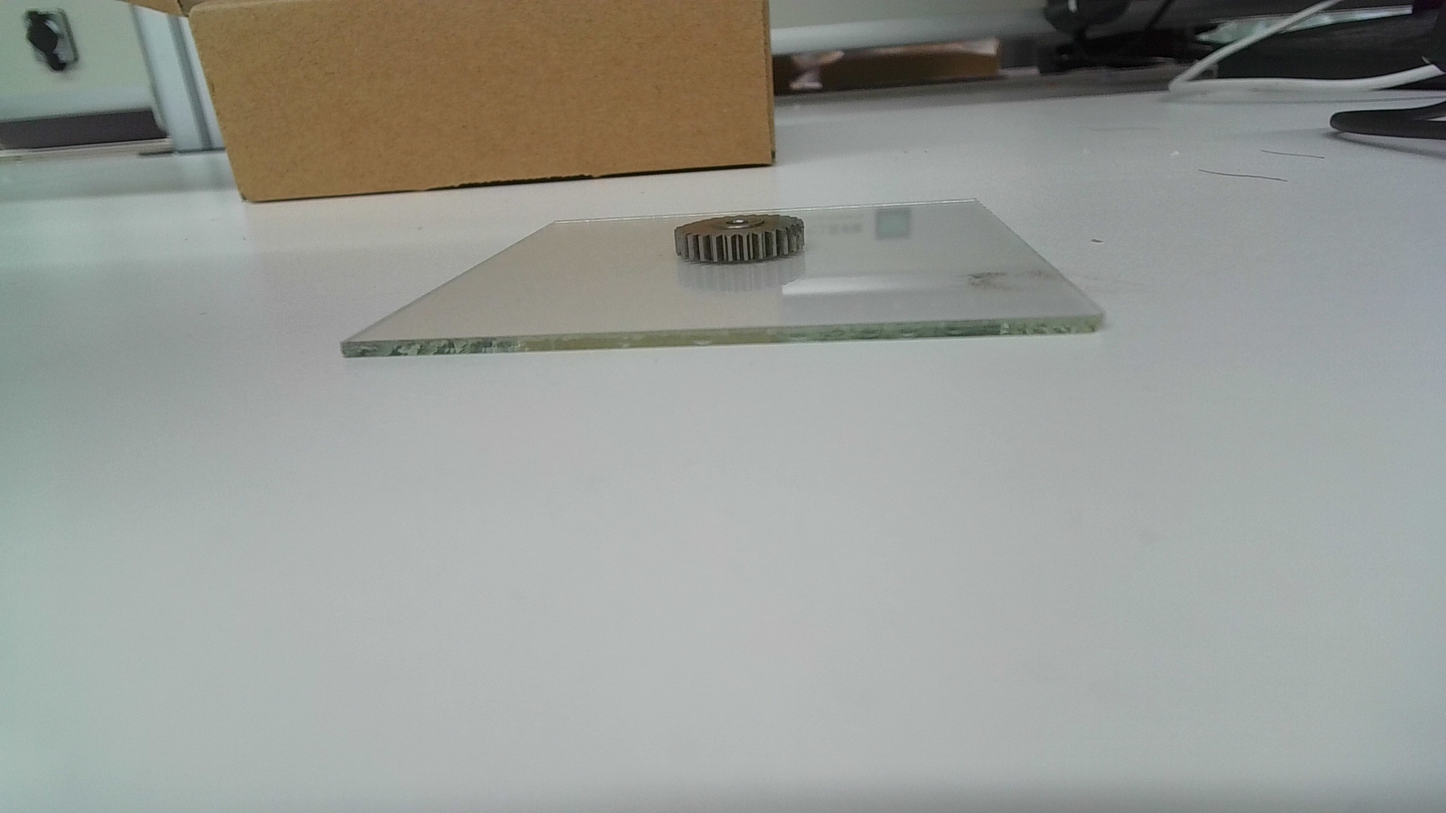gear: (673, 211, 809, 265)
